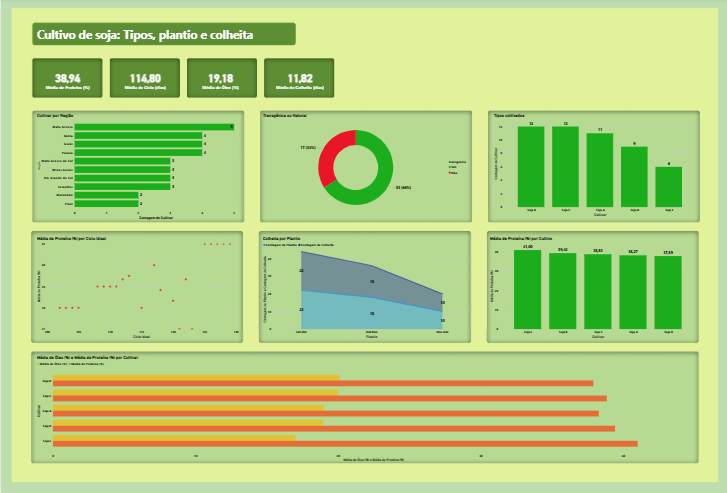

The page's visual inventory and layout, read from the dashboard file:
{"tool":"powerbi","page":{"name":"Página 1","canvas":[3700,2540],"ordinal":0},"visuals":[{"type":"barChart","title":"Cultivar por Região","fields":{"Category":["Soja BI 2.Região"],"Y":["Count(Soja BI 2.Cultivar)"]},"box":[180,585,1035,547.5],"z":0},{"type":"columnChart","title":"Tipos cultivados","fields":{"Category":["Soja BI 2.Cultivar"],"Y":["CountNonNull(Soja BI 2.Cultivar)"]},"box":[2500,585,1040,530],"z":1000},{"type":"donutChart","title":"Transgênica ou Natural","fields":{"Category":["Soja BI 2.Transgênica"],"Y":["CountNonNull(Soja BI 2.Transgênica)"]},"box":[1325,585,1065,530],"z":2000},{"type":"scatterChart","fields":{"Y":["Avg(Soja BI 2.Proteína (%))"],"X":["Soja BI 2.Ciclo (dias)"]},"box":[180,1210,1035,525],"z":3000},{"type":"stackedAreaChart","title":"Colheita por Plantio","fields":{"Category":["Soja BI 2.Plantio"],"Y":["CountNonNull(Soja BI 2.Plantio)","CountNonNull(Soja BI 2.Colheita)"]},"box":[1325,1210,1065,525],"z":4000},{"type":"columnChart","title":"Média de Proteína (%) por Cultivo","fields":{"Y":["Avg(Soja BI 2.Proteína (%))"],"Category":["Soja BI 2.Cultivar"]},"box":[2480,1210,1060,525],"z":5000},{"type":"clusteredBarChart","fields":{"Category":["Soja BI 2.Cultivar"],"Y":["Avg(Soja BI 2.Óleo (%))","Avg(Soja BI 2.Proteína (%))"]},"box":[180,1812.5,3360,547.5],"z":6000},{"type":"card","fields":{"Values":["Avg(Soja BI 2.Ciclo (dias))"]},"box":[572.5,320,317.5,187.5],"z":7000},{"type":"card","fields":{"Values":["Avg(Soja BI 2.Proteína (%))"]},"box":[180,320,322.5,187.5],"z":8000},{"type":"card","fields":{"Values":["Avg(Soja BI 2.Óleo (%))"]},"box":[967.5,320,300,187.5],"z":9000},{"type":"card","fields":{"Values":["Avg(Soja BI 2.Colheita (dias))"]},"box":[1360,320,315,187.5],"z":10000},{"type":"textbox","box":[180,140,1242.5,90],"z":11000}]}

Visuals, with their boxes in screenshot pixels (x1, y1, x2, y2), scaled from the page's 3700x2540 canvas onto the 727x493 screenshot:
"Cultivar por Região" barChart: (x1=35, y1=114, x2=239, y2=220)
"Tipos cultivados" columnChart: (x1=491, y1=114, x2=696, y2=216)
"Transgênica ou Natural" donutChart: (x1=260, y1=114, x2=470, y2=216)
scatterChart - Avg(Soja BI 2.Proteína (%)) x Soja BI 2.Ciclo (dias): (x1=35, y1=235, x2=239, y2=337)
"Colheita por Plantio" stackedAreaChart: (x1=260, y1=235, x2=470, y2=337)
"Média de Proteína (%) por Cultivo" columnChart: (x1=487, y1=235, x2=696, y2=337)
clusteredBarChart - Soja BI 2.Cultivar x Avg(Soja BI 2.Óleo (%)): (x1=35, y1=352, x2=696, y2=458)
card - Avg(Soja BI 2.Ciclo (dias)): (x1=112, y1=62, x2=175, y2=99)
card - Avg(Soja BI 2.Proteína (%)): (x1=35, y1=62, x2=99, y2=99)
card - Avg(Soja BI 2.Óleo (%)): (x1=190, y1=62, x2=249, y2=99)
card - Avg(Soja BI 2.Colheita (dias)): (x1=267, y1=62, x2=329, y2=99)
textbox: (x1=35, y1=27, x2=280, y2=45)
